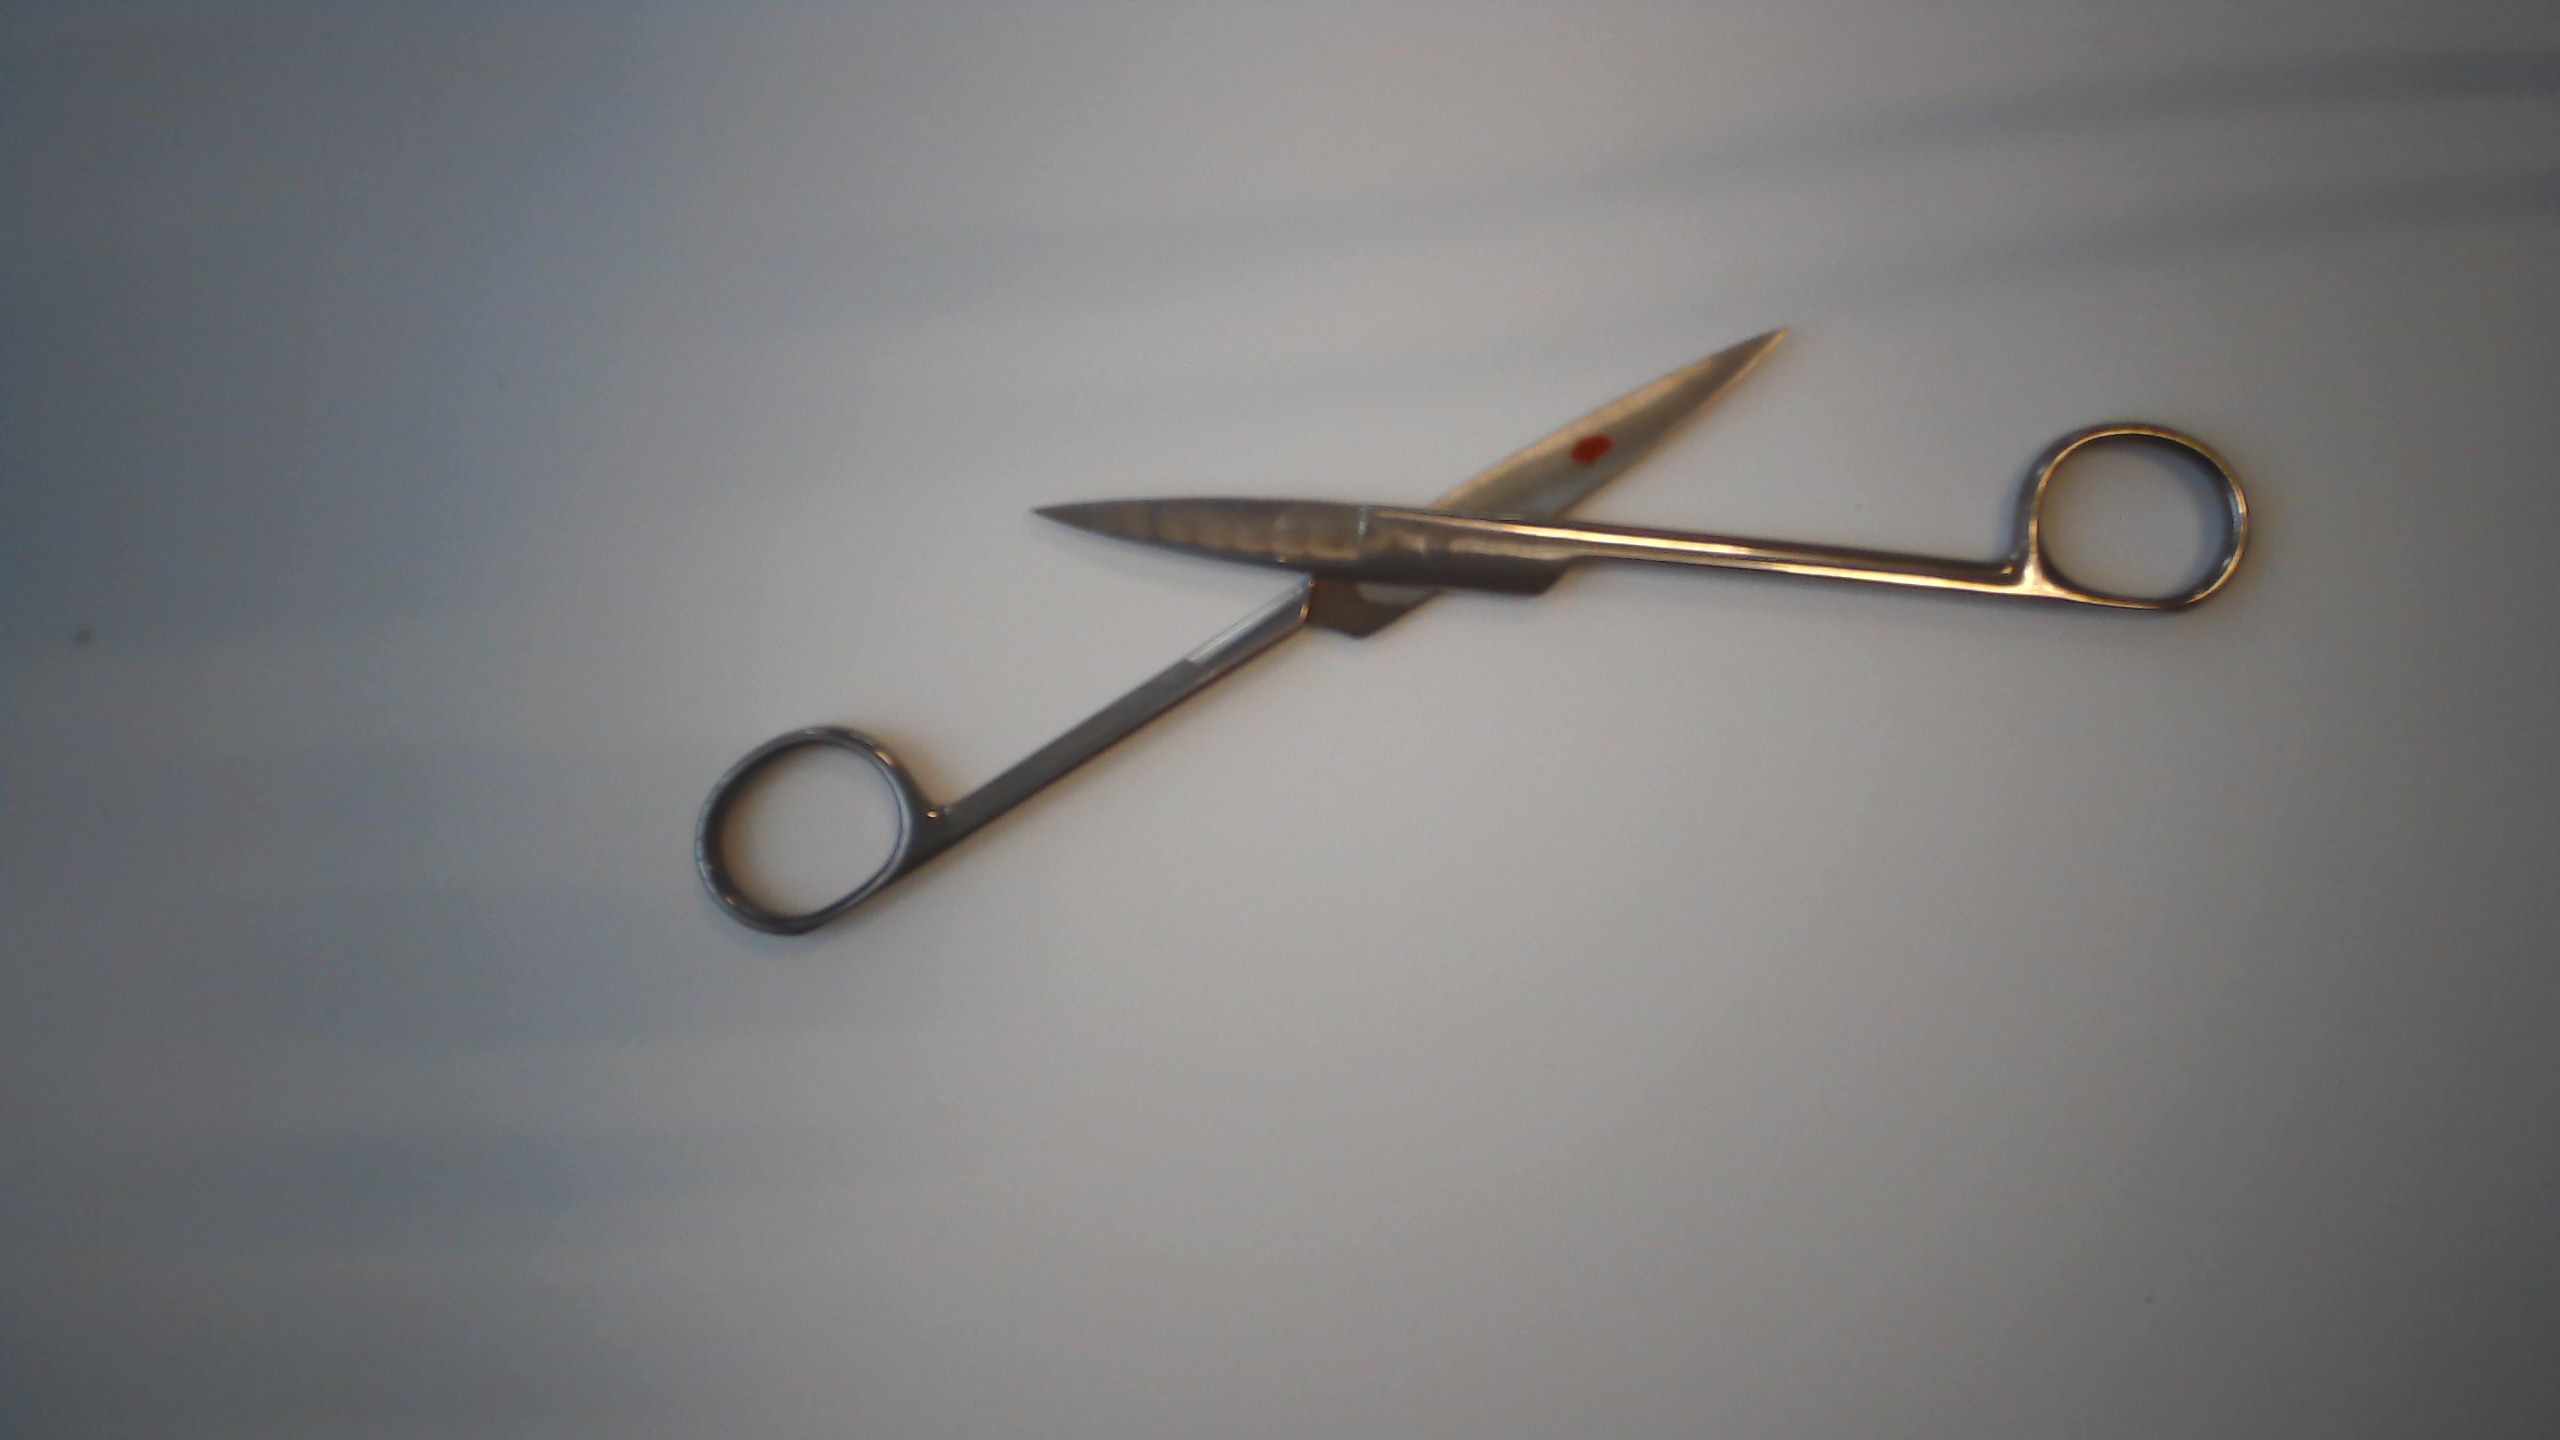Stain: (1563, 427, 1619, 471)
